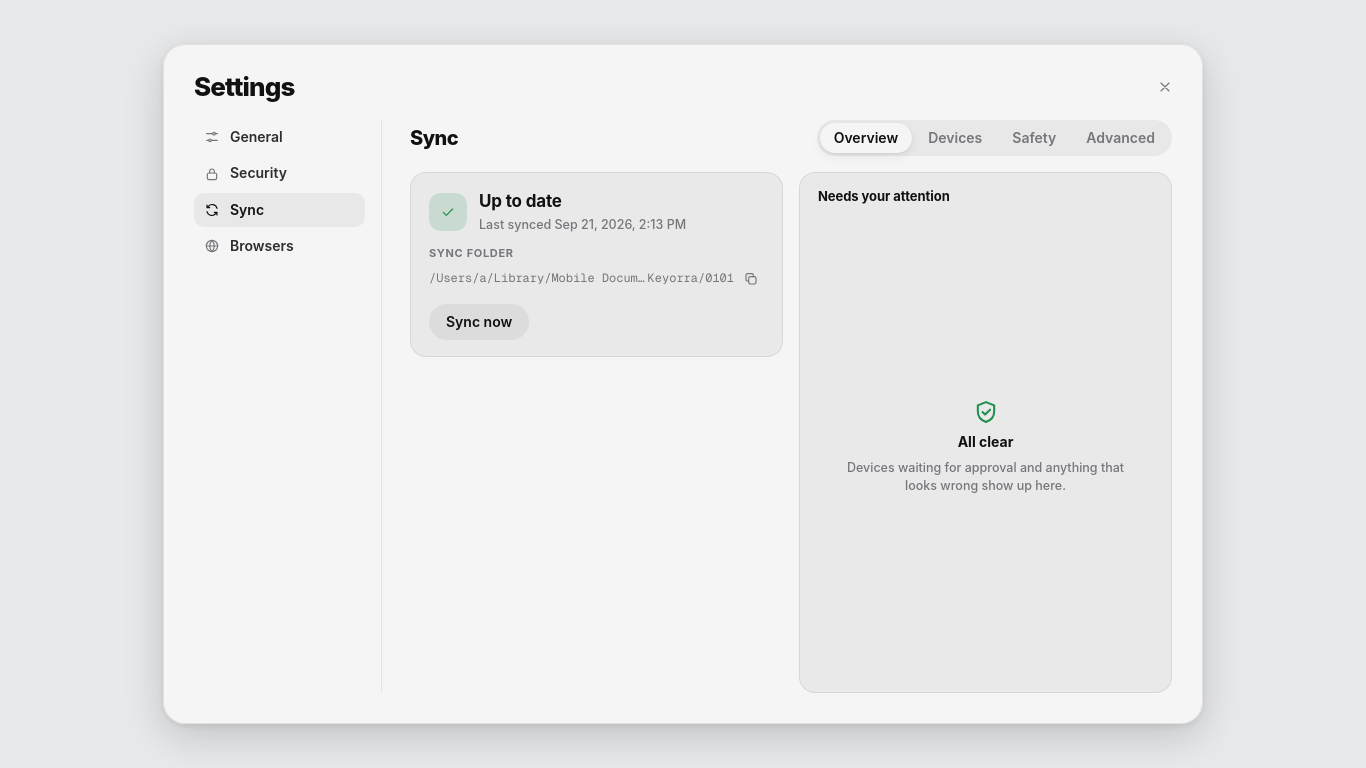
turning sync off and starting a new account
Click the tab "Advanced" at (1121, 138), box [1072, 123, 1169, 154]
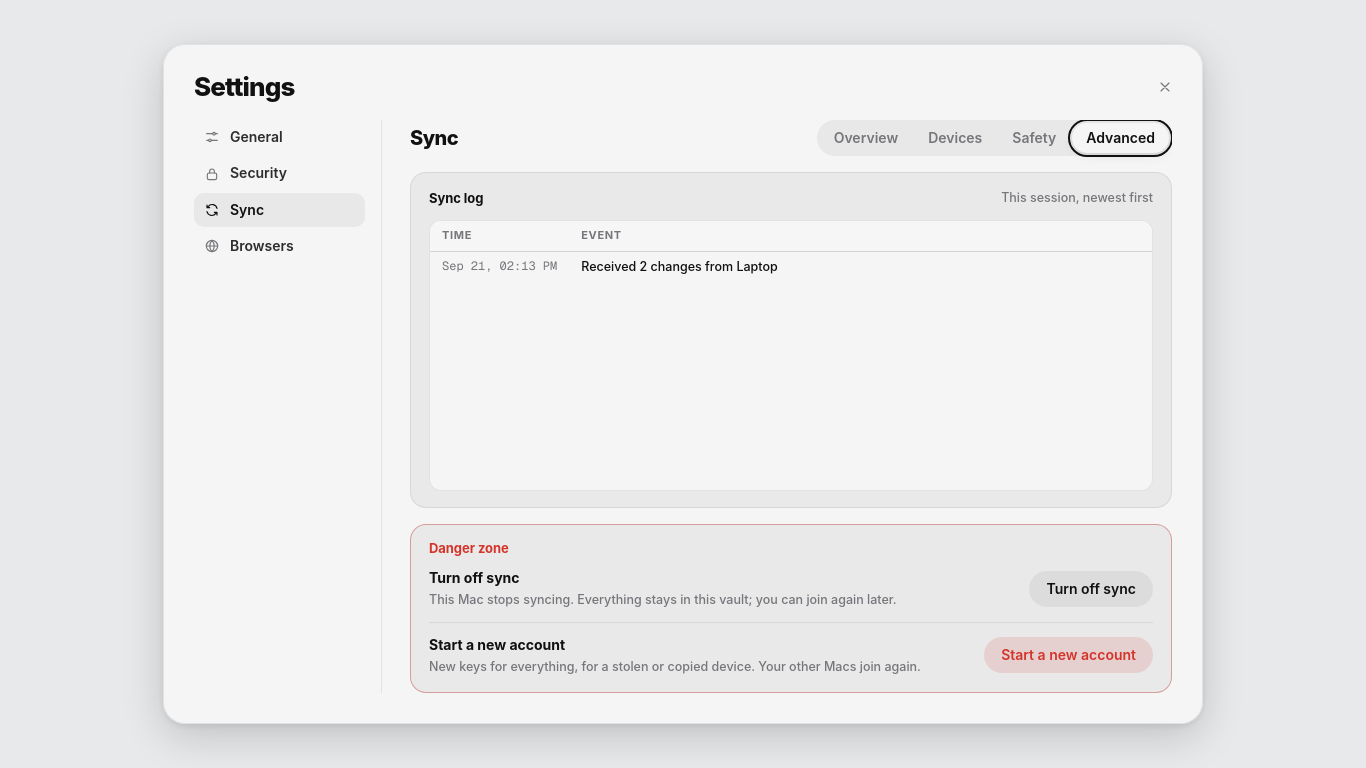
Click the button "Turn off sync" at (1091, 589), box [1029, 571, 1153, 607]
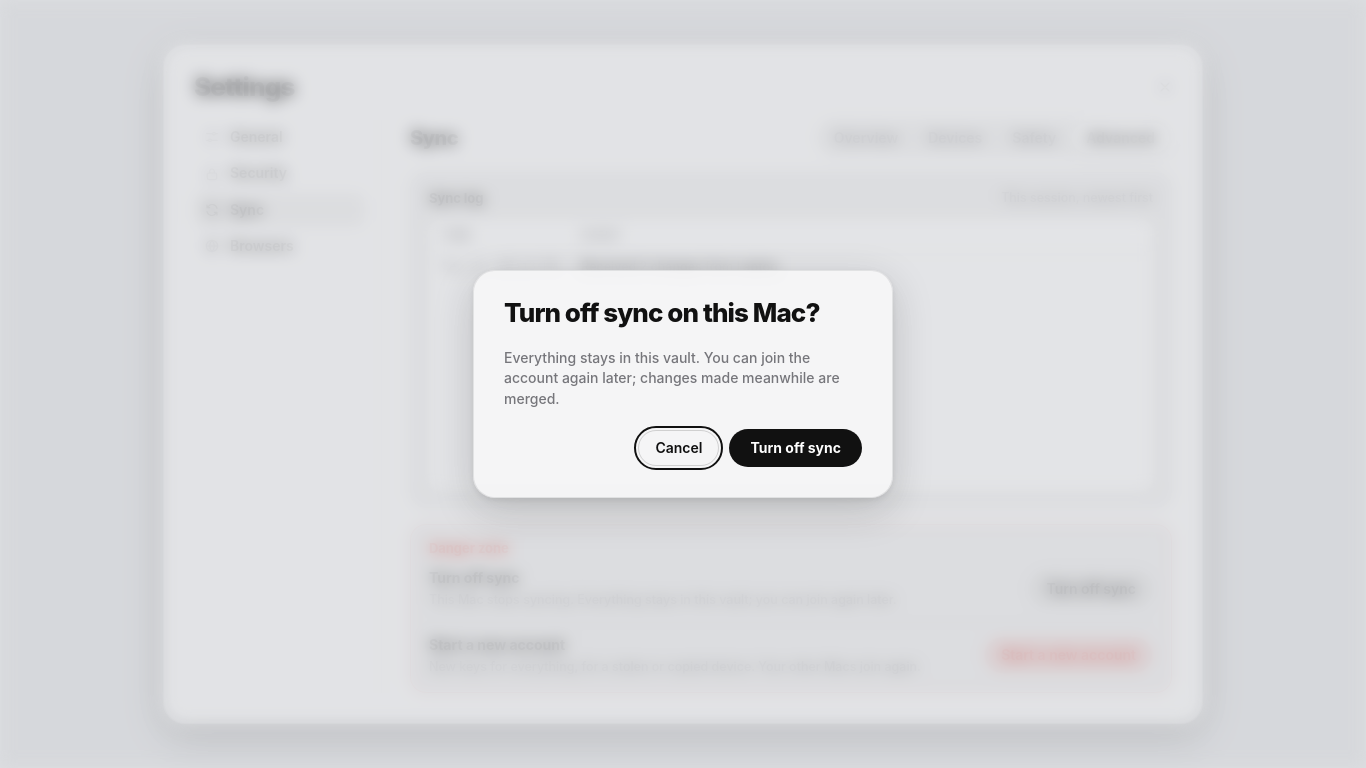
Click the button "Turn off sync" at (796, 448), box [729, 429, 862, 467]
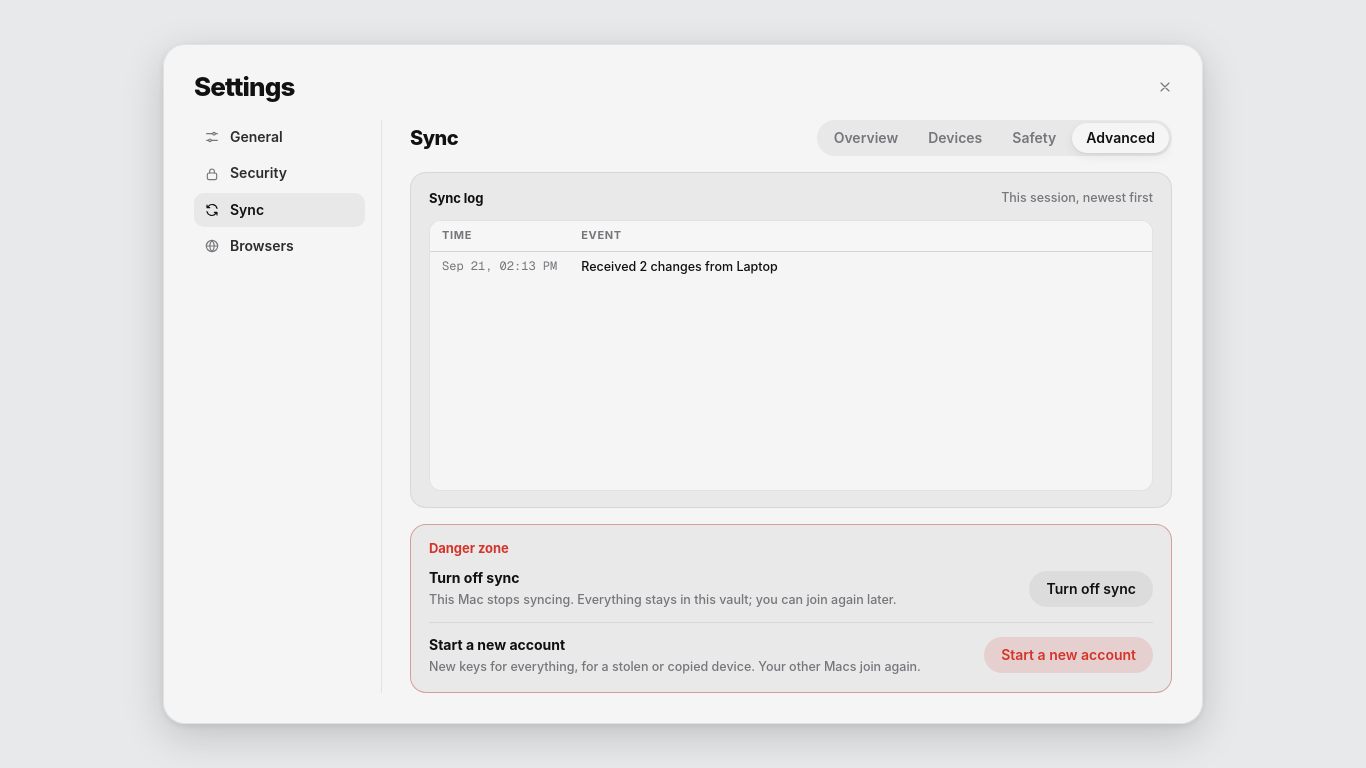
Click the button "Start a new account" at (1069, 655), box [984, 637, 1153, 673]
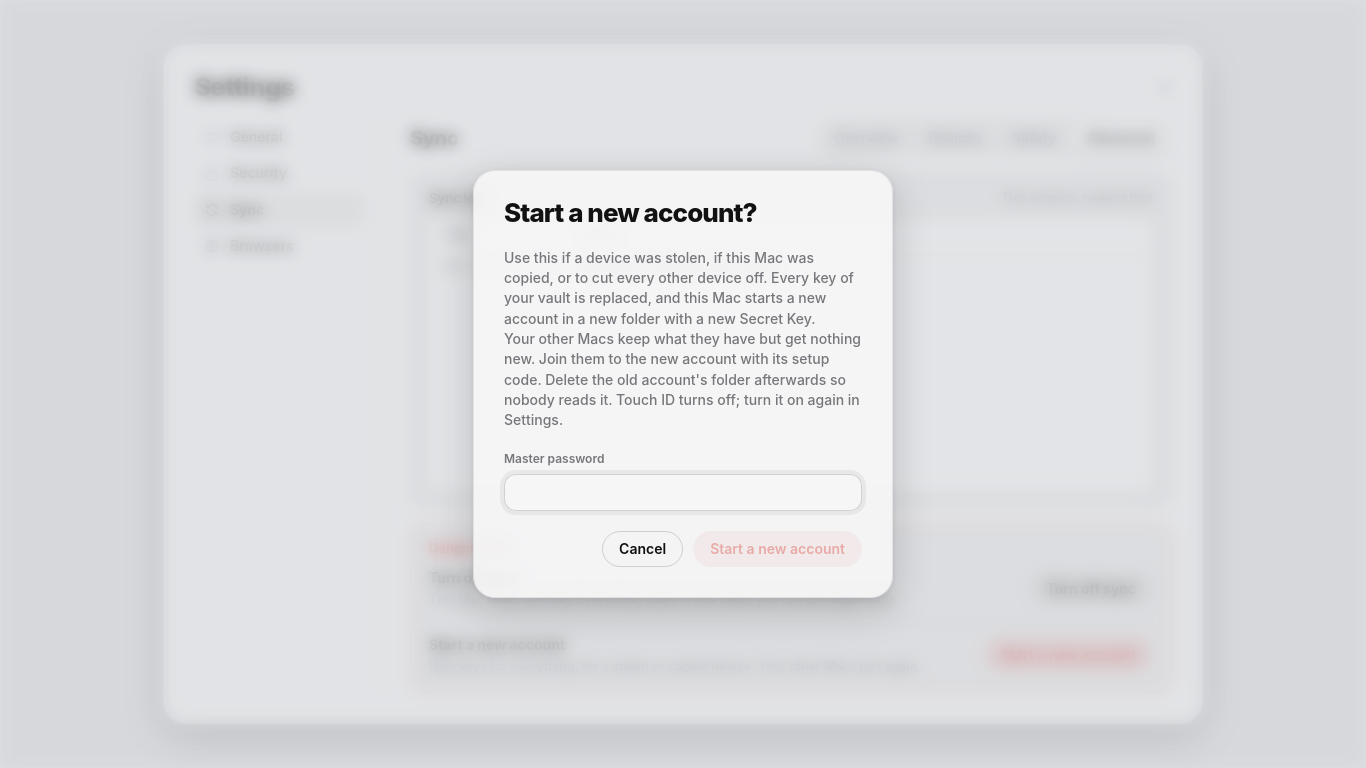
Now the text "a device was stolen" is shown, box [504, 249, 854, 327]
Type "correct horse battery" into the password field labelled "Master password" at (683, 492), box [504, 474, 862, 511]
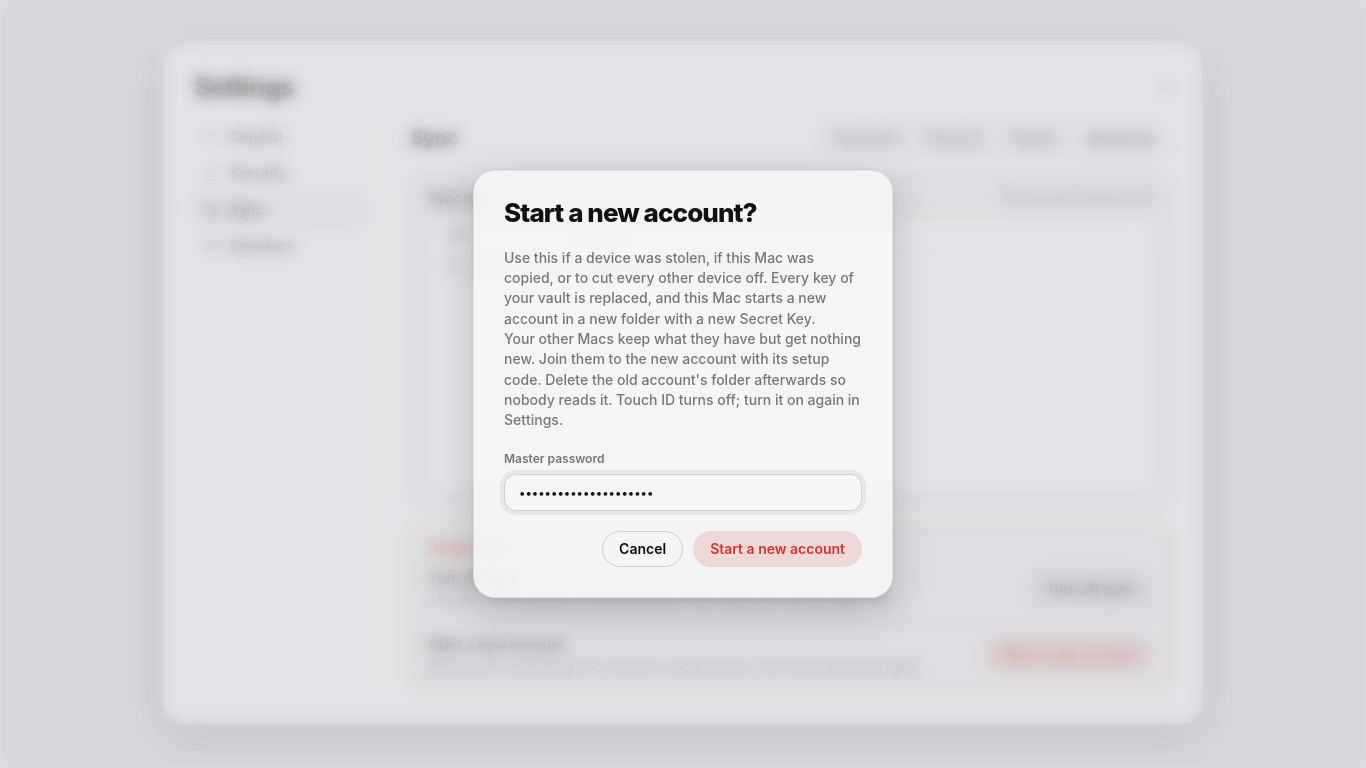
Click the button "Start a new account" at (778, 549), box [693, 531, 862, 568]
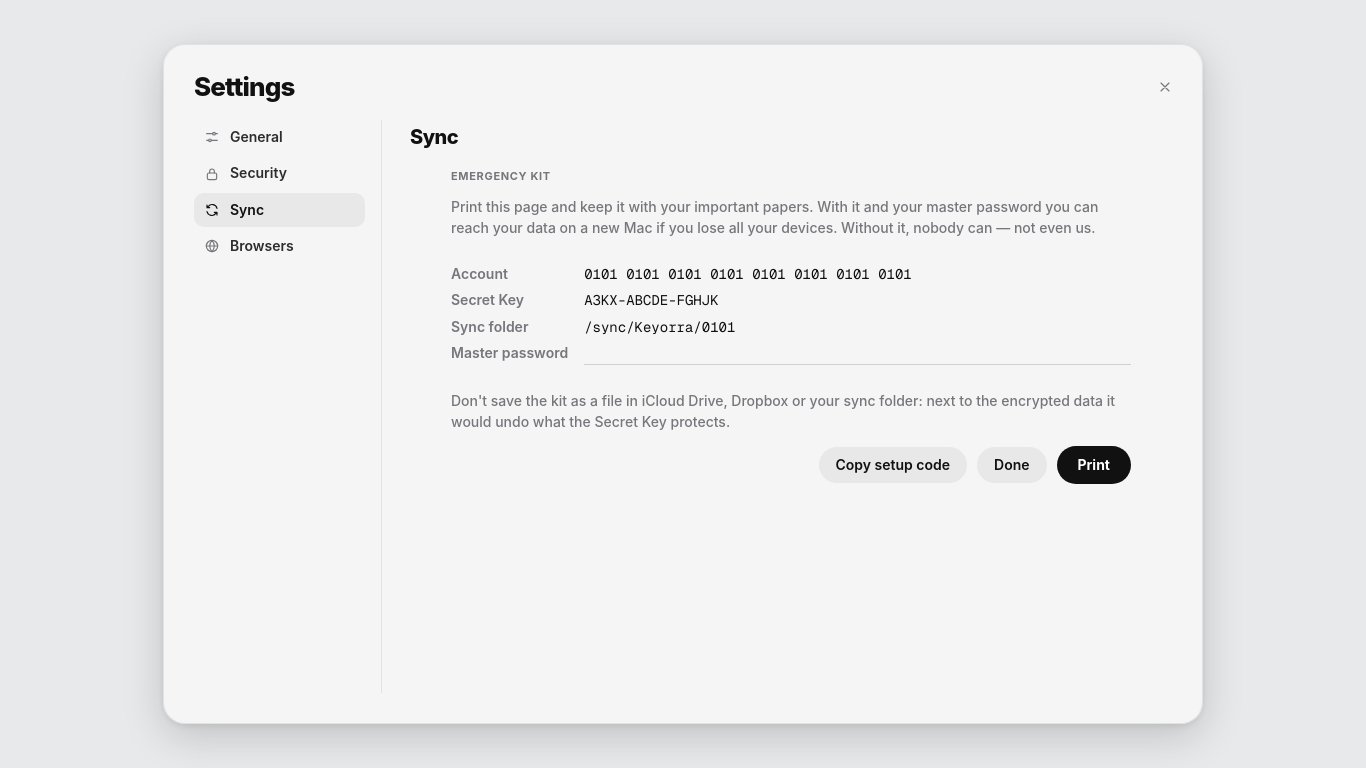
Now the element "Emergency Kit" is shown, box [451, 170, 1131, 484]
